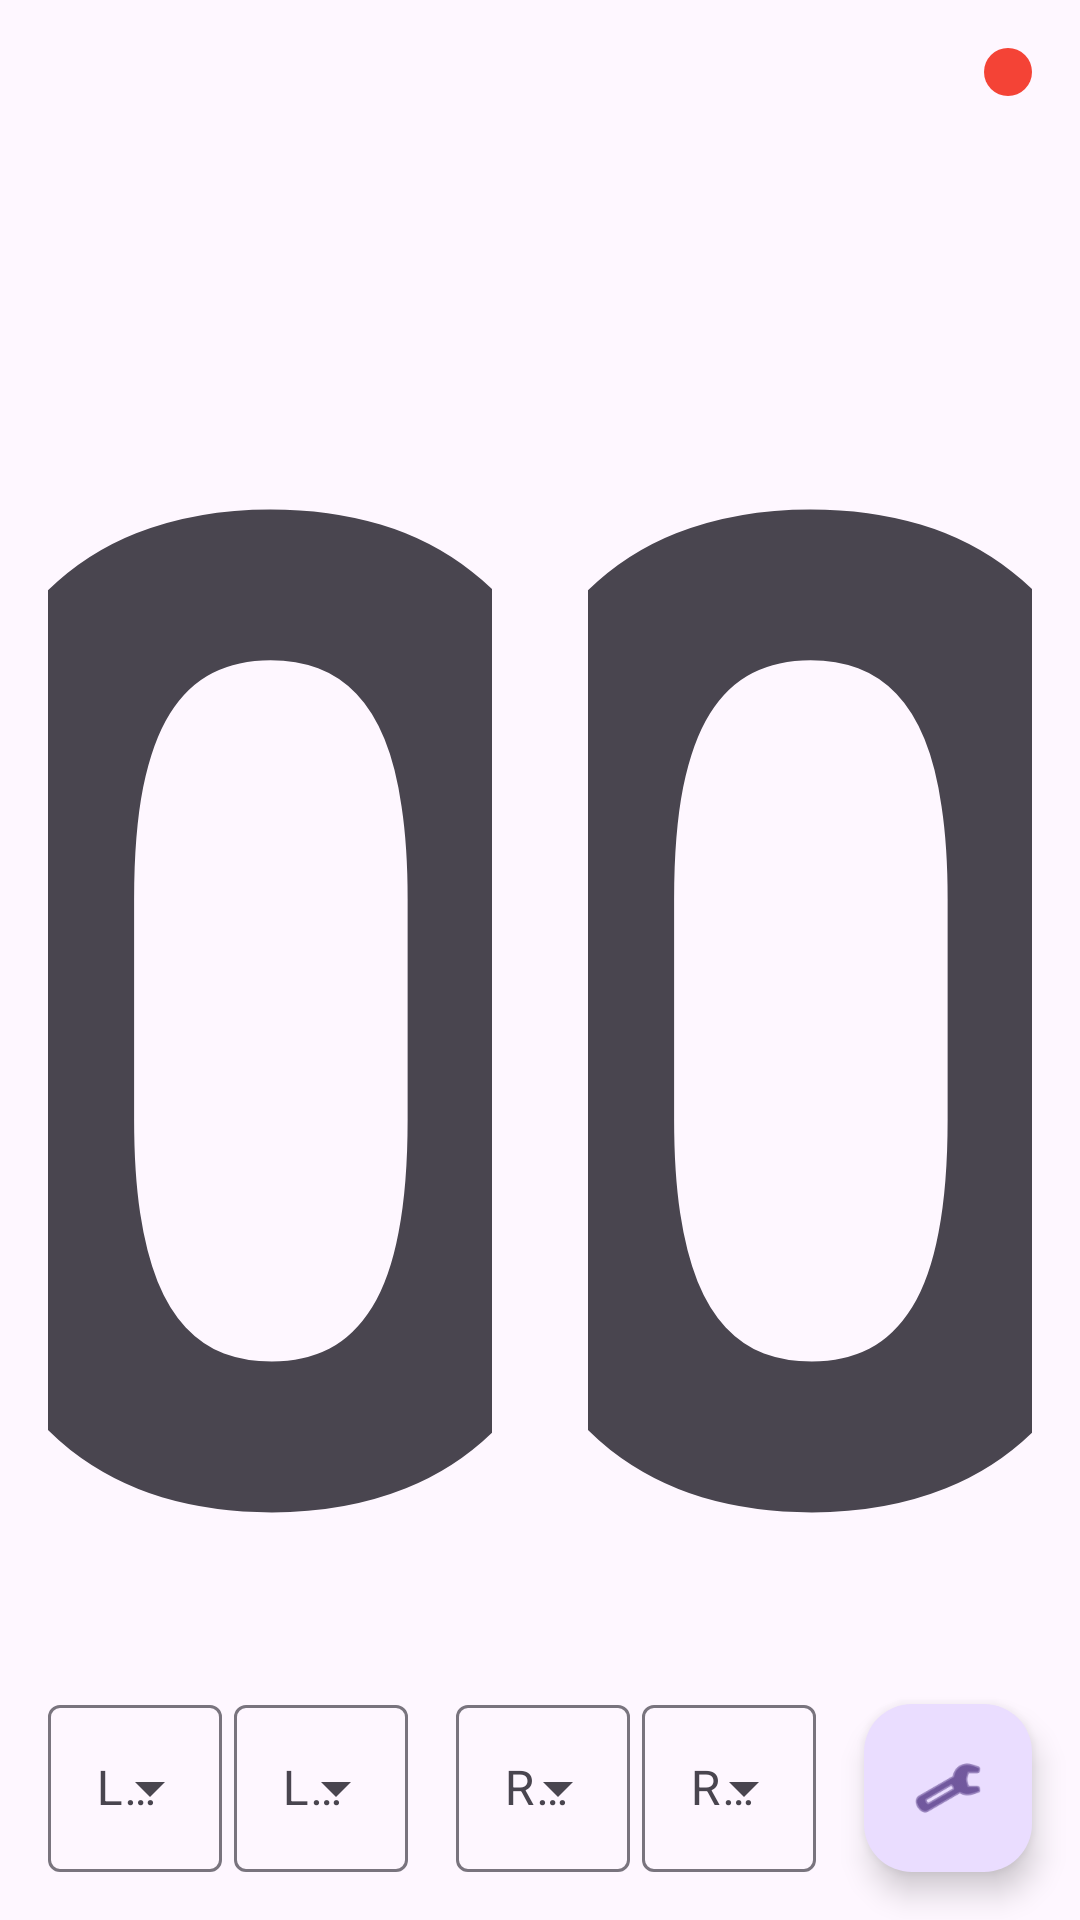

Icons on this 1080px×1920px Android screen, each with its box as (x1=x1, y1=y1, x2=x2, y2=y2):
Settings: (x1=864, y1=1704, x2=1032, y2=1872)
